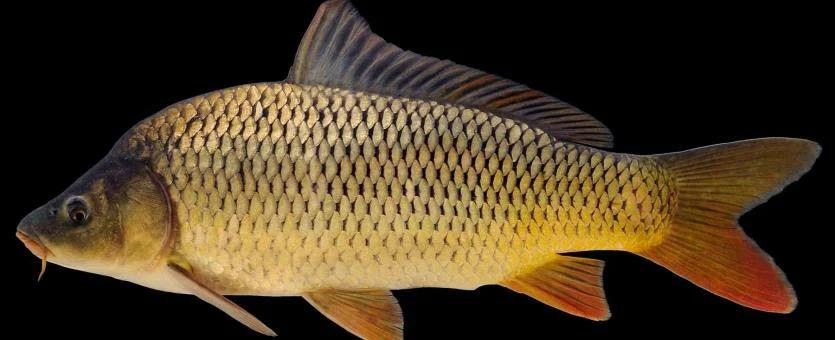Grass Carp: (10, 28, 834, 337)
